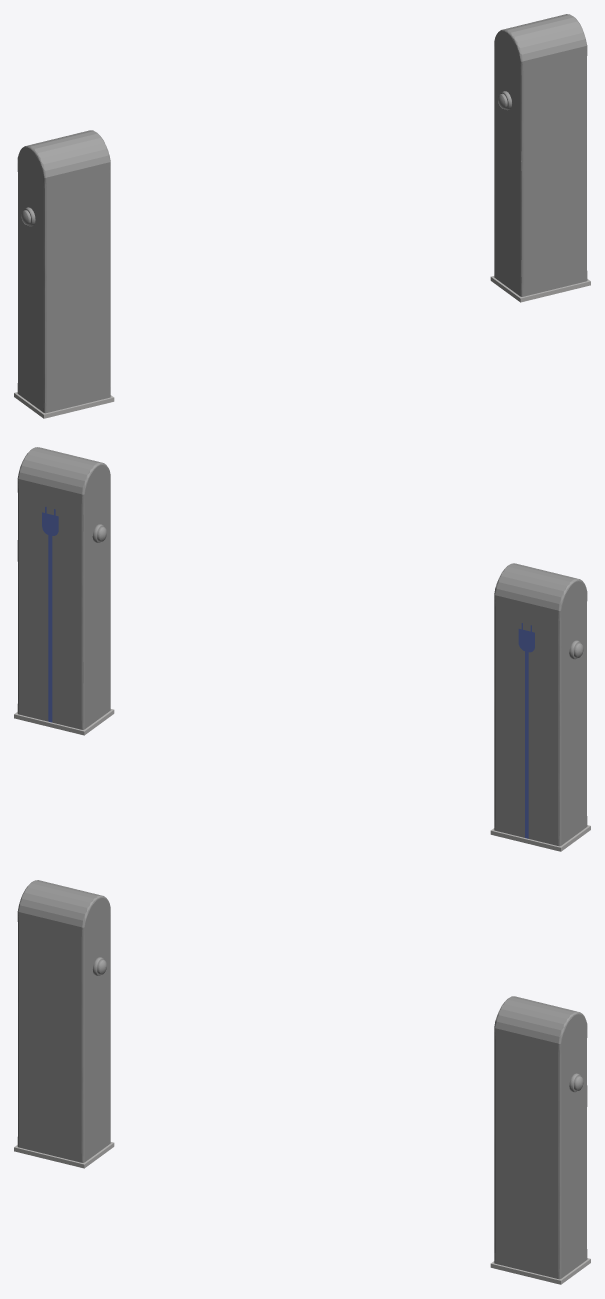
3 views of the same model, one above another, from view 1: azimuth 30°, elevation 25°; view 2: azimuth 150°, elevation 25°; view 3: azimuth 330°, elevation 25° (orthographic).
Bounding box in the file's own units: 2.93 × 1.3 × 0.2722.
